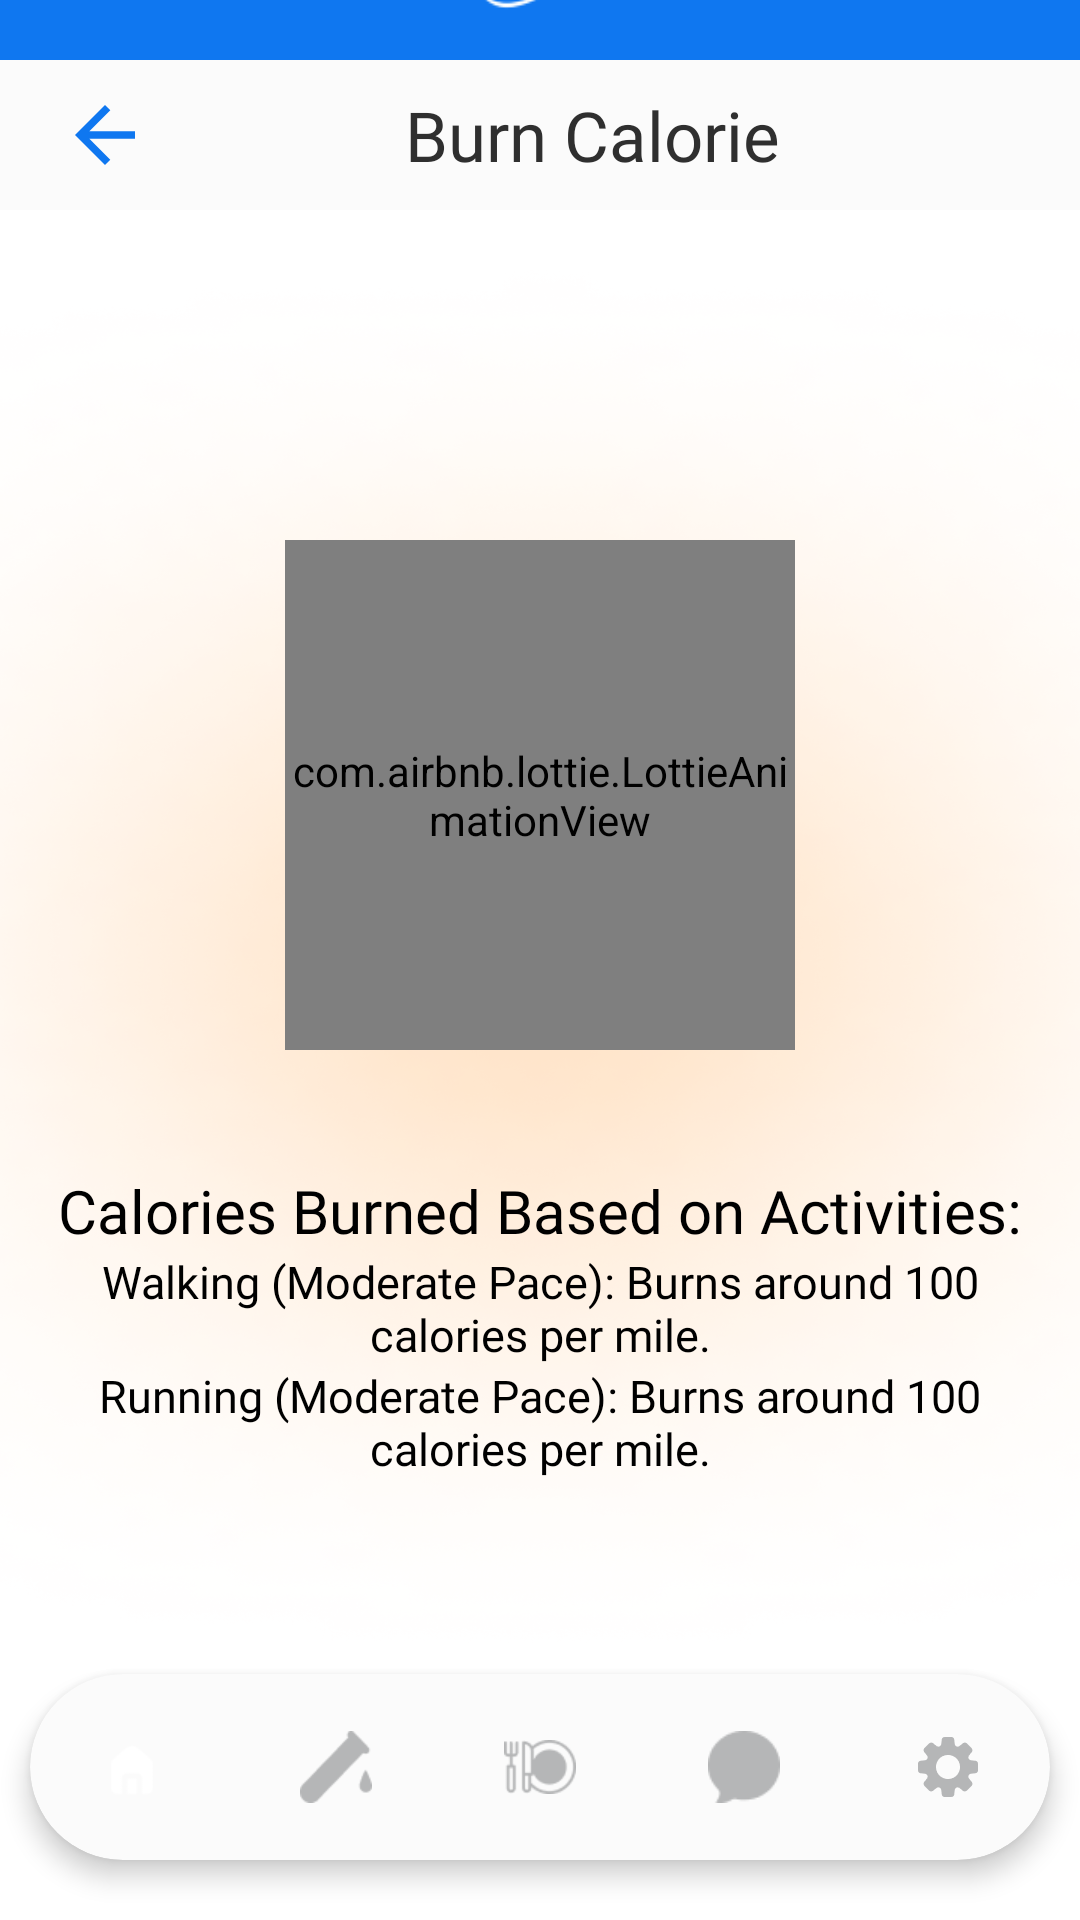

Where icons sit on this 1080w x 1920h app screen, as rect(x1, y1, x2, y2):
backbutton: rect(75, 105, 135, 165)
